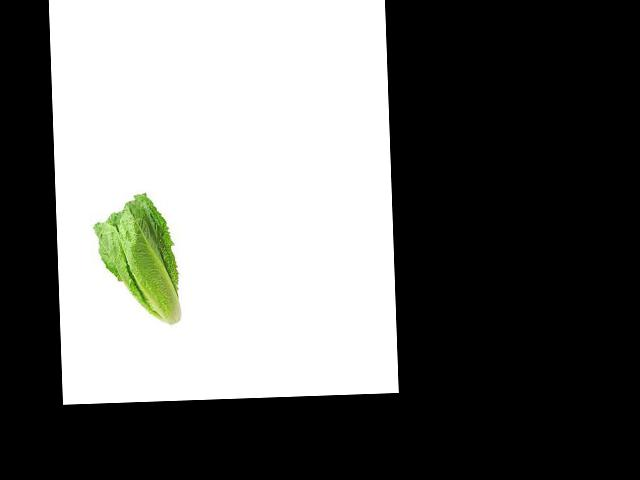lettuce: (95, 201, 179, 317)
